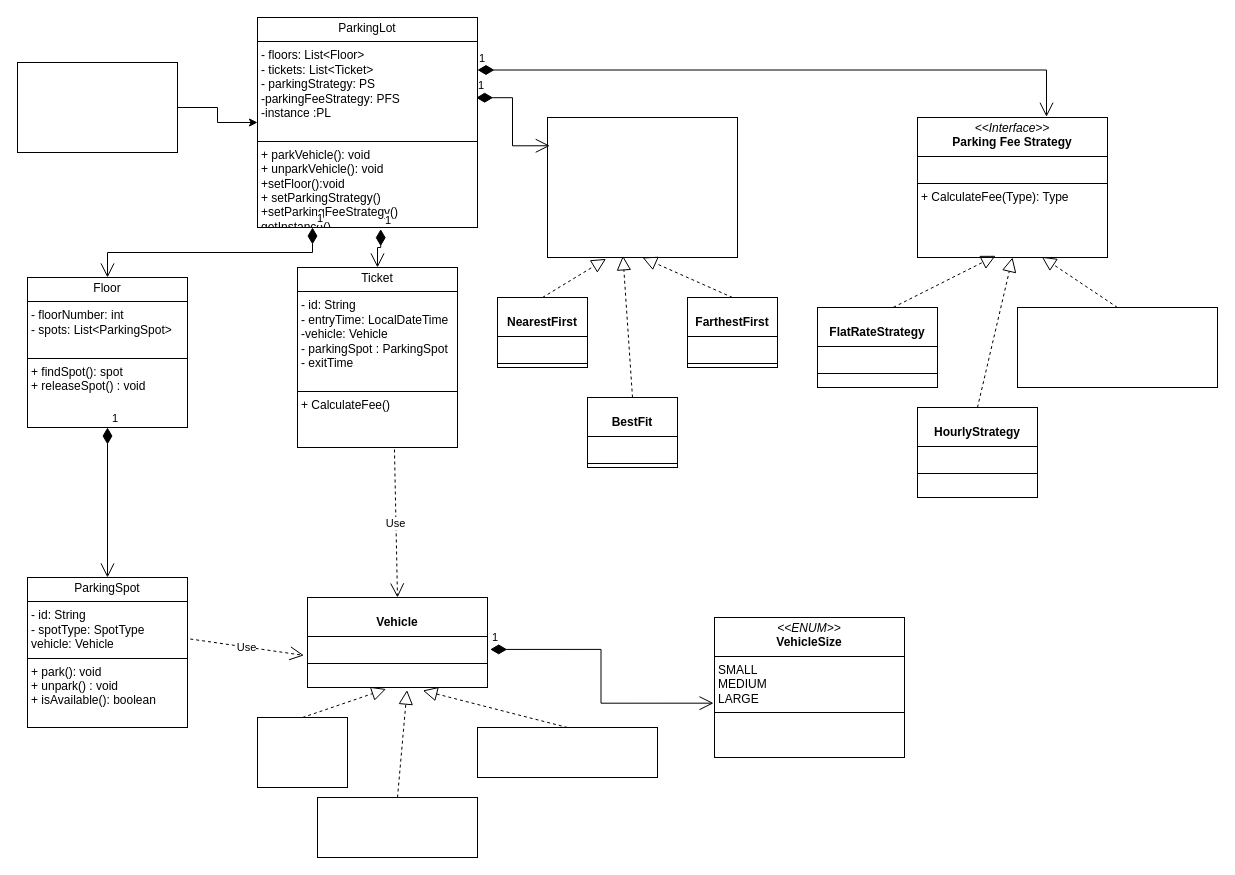
Image size: 1235x875. Some labels were removed from this diagram. The shapes that lost their labels are listed below. From the top down, each one's centre as x and y in pixels, then its label:
pixel 97 107: ParkingLotDemo +main(string)
pixel 642 187: <<Interface>> Parking Strategy + findSpot(Type): Type
pixel 1117 347: VehicleSizeStrategy
pixel 302 752: Car
pixel 567 752: Bike
pixel 397 827: Truck
